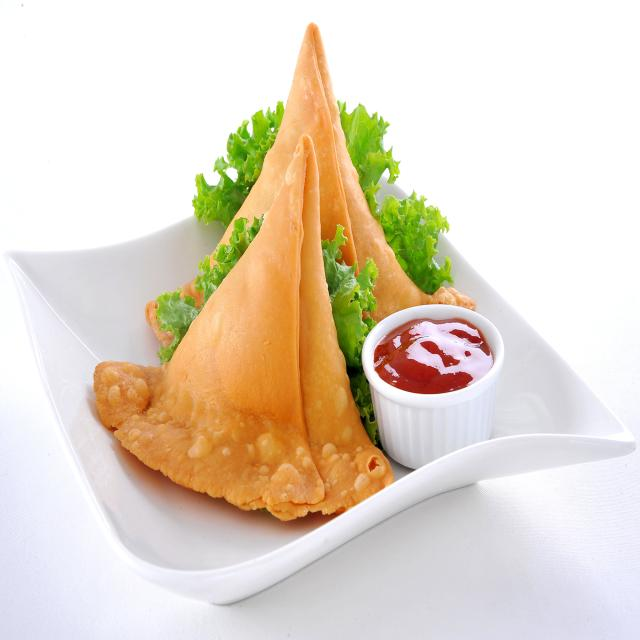SAMOSA: (91, 132, 394, 512), (149, 25, 454, 371)
